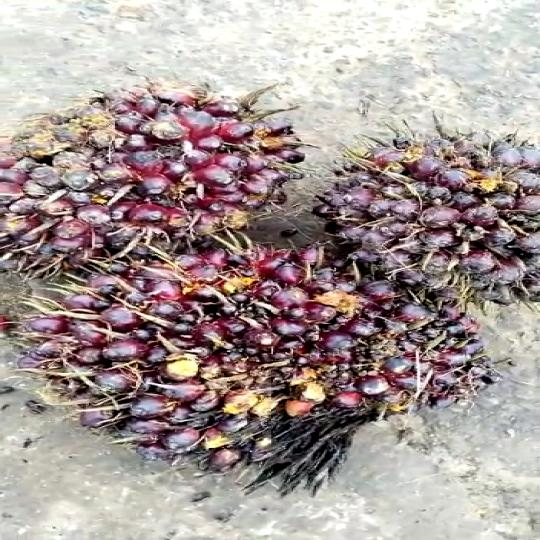kurang masak: (10, 252, 480, 461), (0, 69, 288, 268), (319, 127, 540, 316)
